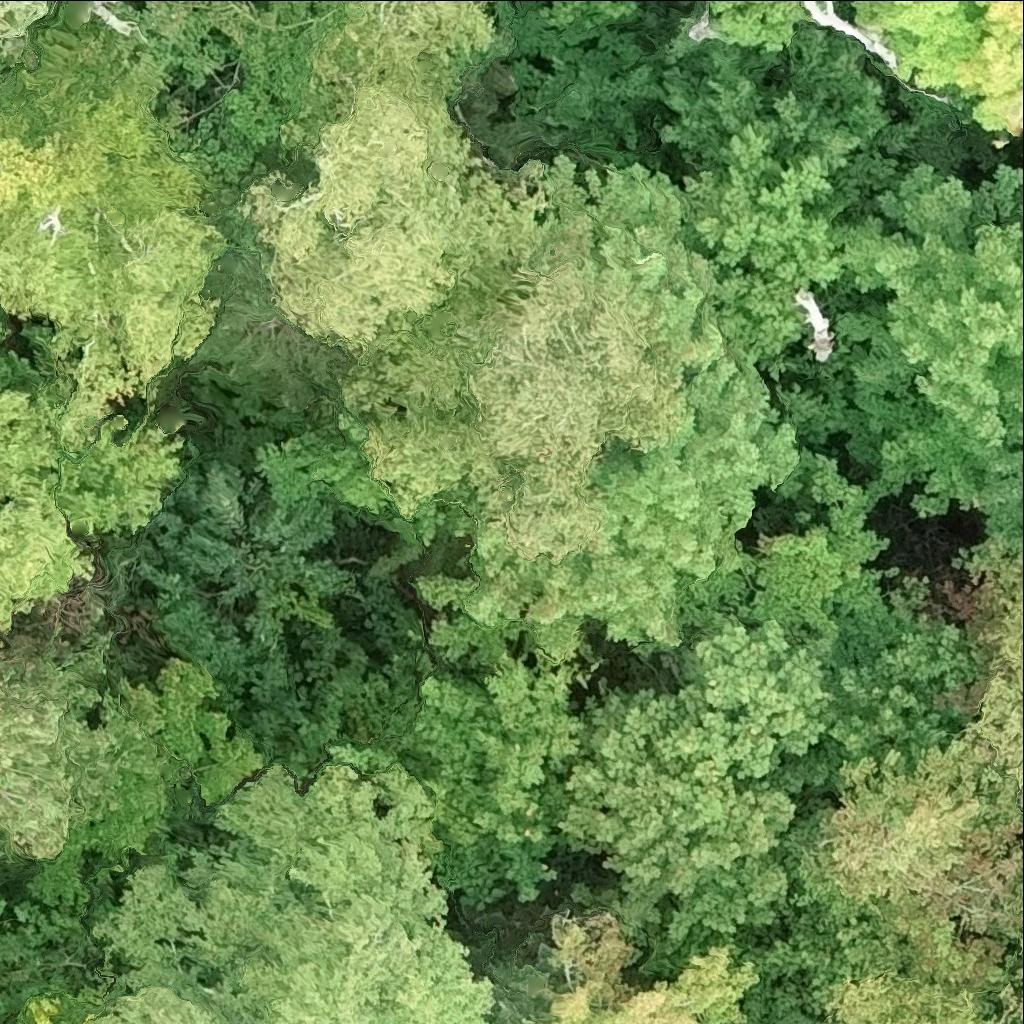crown: (310, 341, 801, 673), (344, 251, 684, 562), (99, 765, 494, 1023), (0, 38, 229, 448), (659, 10, 920, 362), (236, 88, 544, 340), (768, 723, 1023, 1019), (283, 628, 509, 911), (560, 682, 796, 945), (28, 658, 265, 917), (844, 164, 1023, 461), (775, 301, 990, 516), (0, 387, 184, 630), (526, 156, 725, 380), (279, 0, 514, 150), (660, 604, 836, 795), (730, 458, 900, 643), (473, 653, 587, 901), (0, 629, 122, 858), (825, 601, 984, 774), (544, 911, 757, 1023), (857, 0, 1023, 135), (970, 545, 1023, 805), (0, 902, 91, 1014), (820, 974, 1023, 1023), (974, 447, 1023, 557), (708, 0, 811, 52), (86, 991, 218, 1023), (480, 967, 551, 1023), (0, 0, 58, 52), (542, 0, 635, 30), (0, 351, 41, 399), (27, 996, 59, 1023), (1005, 418, 1023, 446), (0, 305, 8, 343), (1014, 385, 1023, 411), (79, 1013, 100, 1023), (0, 899, 7, 914), (1018, 938, 1023, 955), (816, 0, 824, 8)
